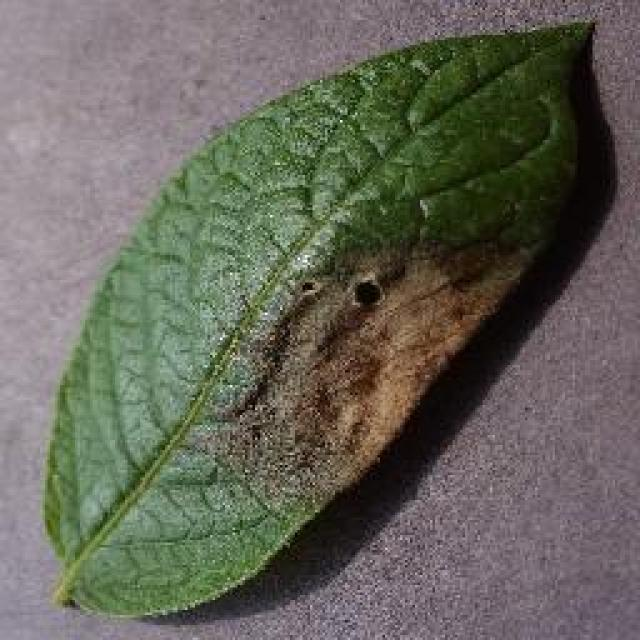Potato: (38, 15, 600, 620)
